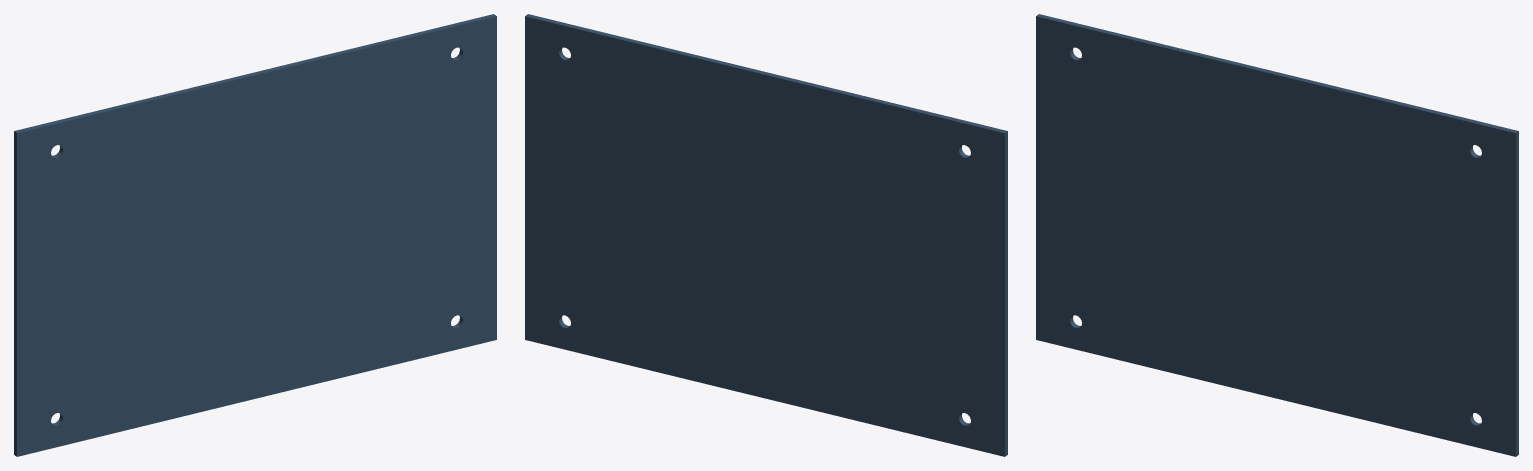
File: milling-drive-service-hatch.glb
3 renders of one model, left to right at view 1: azimuth 30°, elevation 25°; view 2: azimuth 150°, elevation 25°; view 3: azimuth 330°, elevation 25°, orthographic.
Size of the model in its own units: 0.18 by 0.116 by 0.002.
